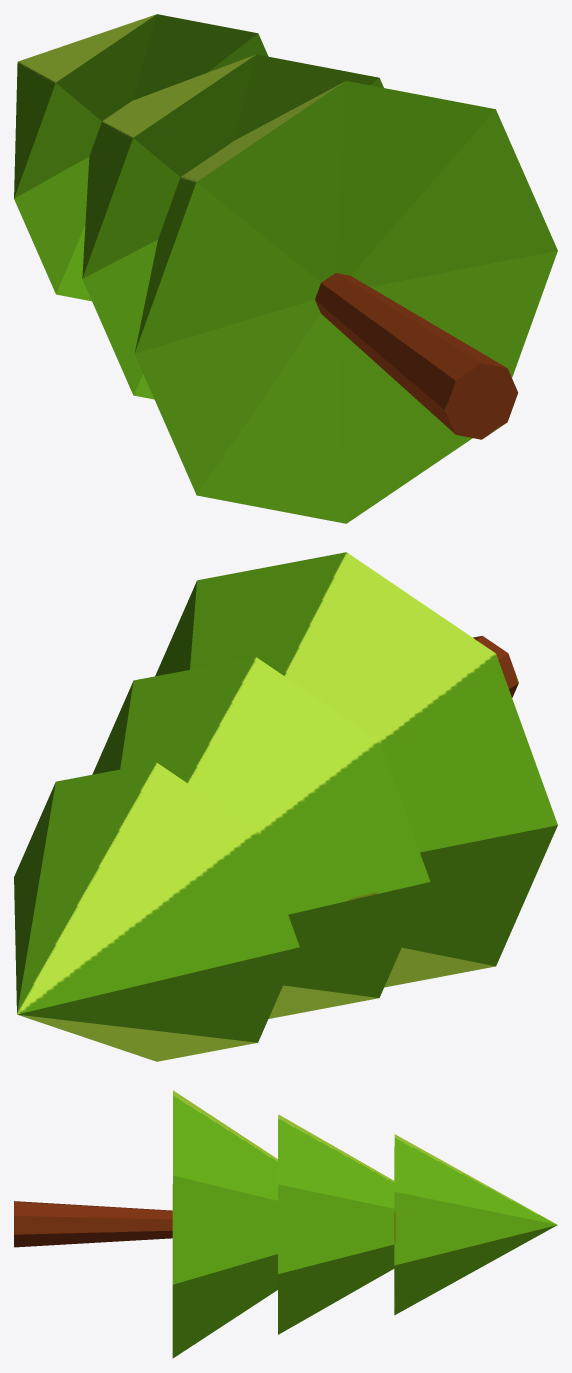
The model's file is tree-03-pine.obj.
3 views of the same model, one above another, from view 1: azimuth 30°, elevation 25°; view 2: azimuth 150°, elevation 25°; view 3: azimuth 270°, elevation 25° (orthographic). The views are drawn at different scales.
Visible parts, largest first — view 1: tree-03-pine_Cube.057; view 2: tree-03-pine_Cube.057; view 3: tree-03-pine_Cube.057.
Part boxes in pixels (x1,y1,x2,y2): tree-03-pine_Cube.057: (14, 14, 557, 523); tree-03-pine_Cube.057: (14, 552, 557, 1061); tree-03-pine_Cube.057: (14, 1090, 557, 1358).
Bounding box in the file's own units: 5.37 × 5.37 × 10.22.
